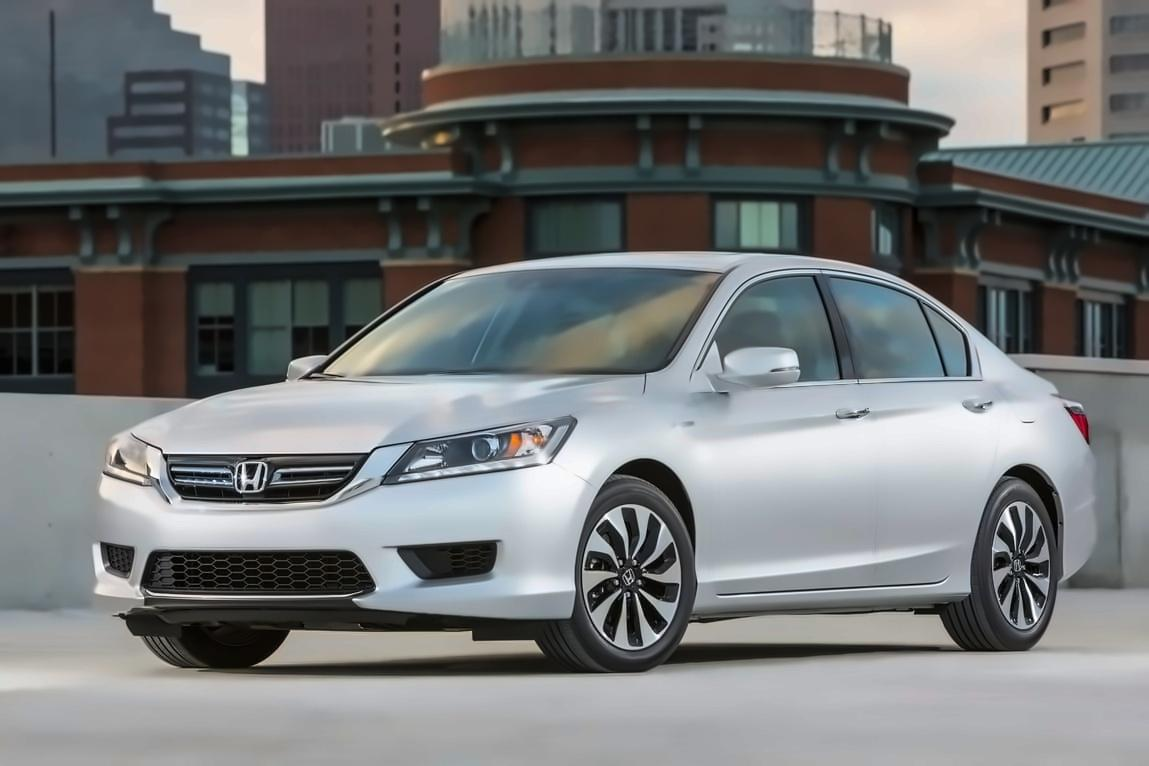Car hood: (125, 370, 657, 461)
Fender - -F-L-: (562, 353, 715, 607)
Fender - -R-L-: (959, 354, 1092, 600)
Front bumper: (77, 480, 594, 629)
Headlight - -L-: (375, 410, 585, 491)
Headlight - -R-: (94, 415, 188, 493)
Passenger-s door - -F-L-: (692, 262, 868, 597), (857, 270, 1016, 599)
Rear bumper: (1047, 482, 1102, 612)
Rear light - -L-: (1049, 380, 1115, 449)
Side bumper - -L-: (680, 567, 985, 629)
Side mirror - -L-: (710, 342, 803, 396)
Side mirror - -R-: (277, 342, 332, 387)
